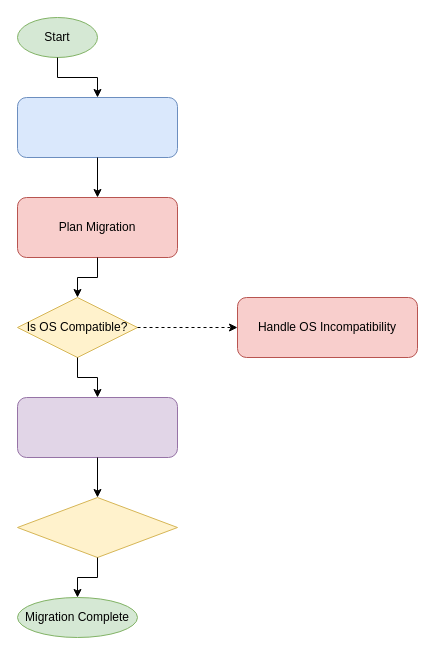
The diagram is 435 pixels wide and 655 high, and some of its shapes have lost their labels. The box of each missing label's shape, as (x1, y1, x2, y2) in pixels:
Assess Source Environment: (16, 96, 178, 158)
Execute Migration: (16, 396, 178, 458)
Verify Migration Success: (16, 496, 178, 558)
